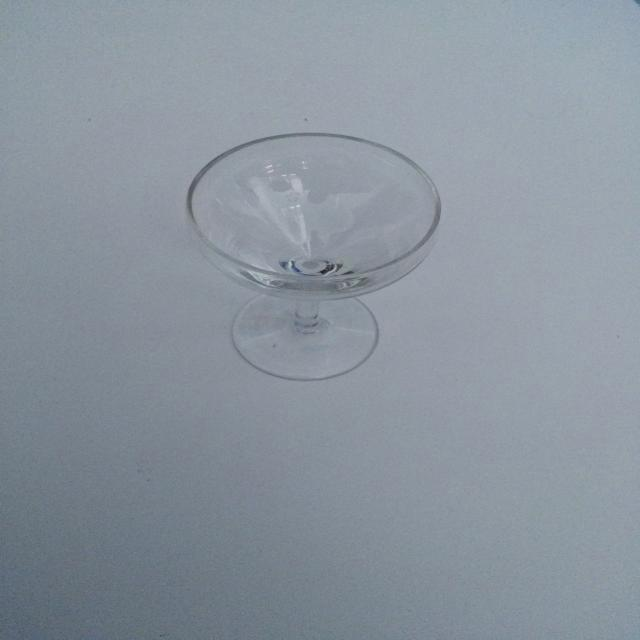glass: (174, 122, 455, 392)
